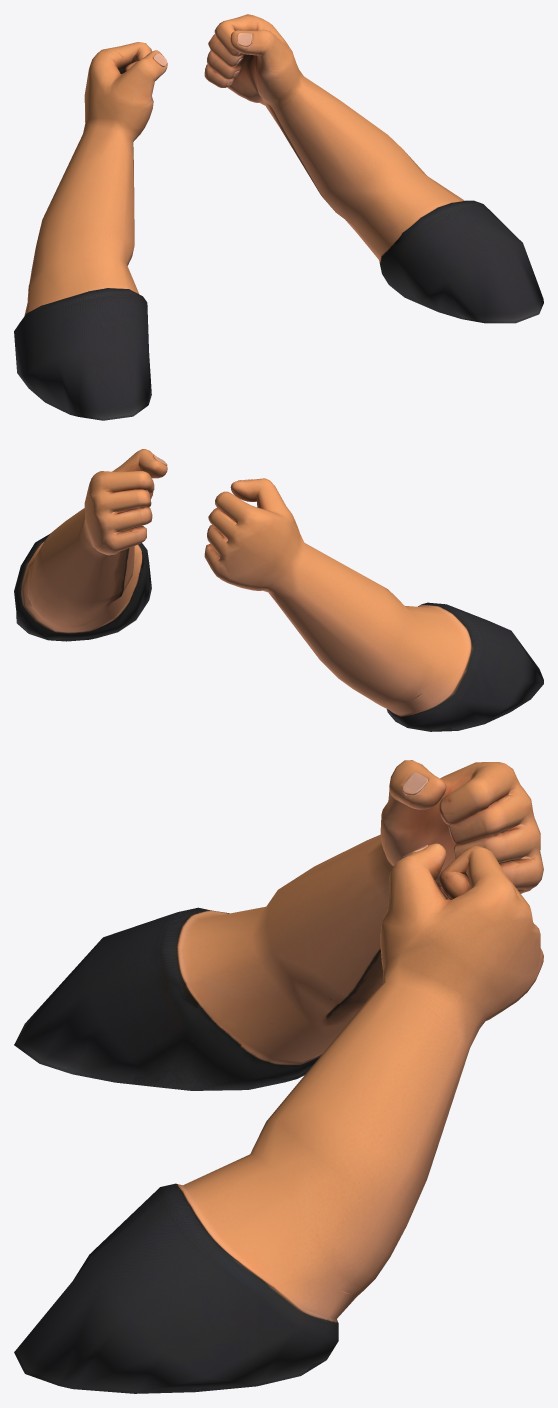
Rendered from low+poly+arms+3d+model.glb.
3 renders of one model, top to bottom at view 1: azimuth 30°, elevation 25°; view 2: azimuth 150°, elevation 25°; view 3: azimuth 270°, elevation 25°, orthographic. The views are drawn at different scales.
Visible parts, largest first — view 1: tripo_node_f4b8ed7d-2aba-40ab-8310-29e8e1b2bfbb; view 2: tripo_node_f4b8ed7d-2aba-40ab-8310-29e8e1b2bfbb; view 3: tripo_node_f4b8ed7d-2aba-40ab-8310-29e8e1b2bfbb.
Part boxes in pixels (left/top/right/bottom): tripo_node_f4b8ed7d-2aba-40ab-8310-29e8e1b2bfbb: left=14, top=14, right=543, bottom=420; tripo_node_f4b8ed7d-2aba-40ab-8310-29e8e1b2bfbb: left=14, top=449, right=543, bottom=731; tripo_node_f4b8ed7d-2aba-40ab-8310-29e8e1b2bfbb: left=14, top=760, right=543, bottom=1393.
Size of the model in its own units: 0.9995 by 0.4624 by 0.5698.
1 material, 1 textured.
